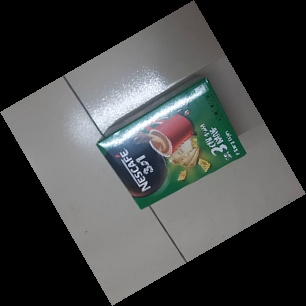Nes Rang: (98, 75, 247, 212)
